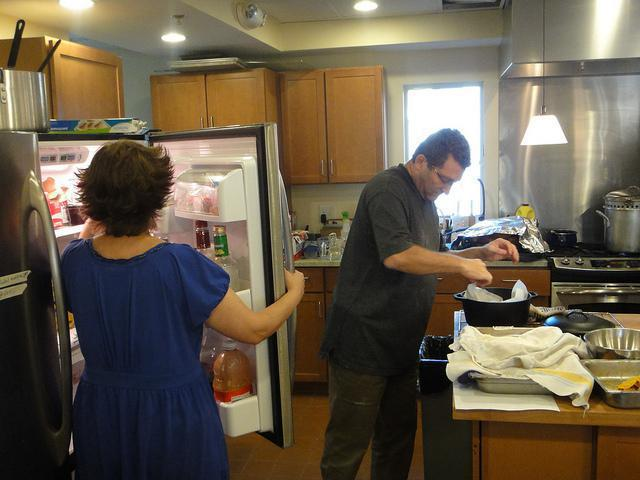Bote de Basura: (416, 331, 477, 479)
Lavaplatos: (396, 217, 494, 263)
